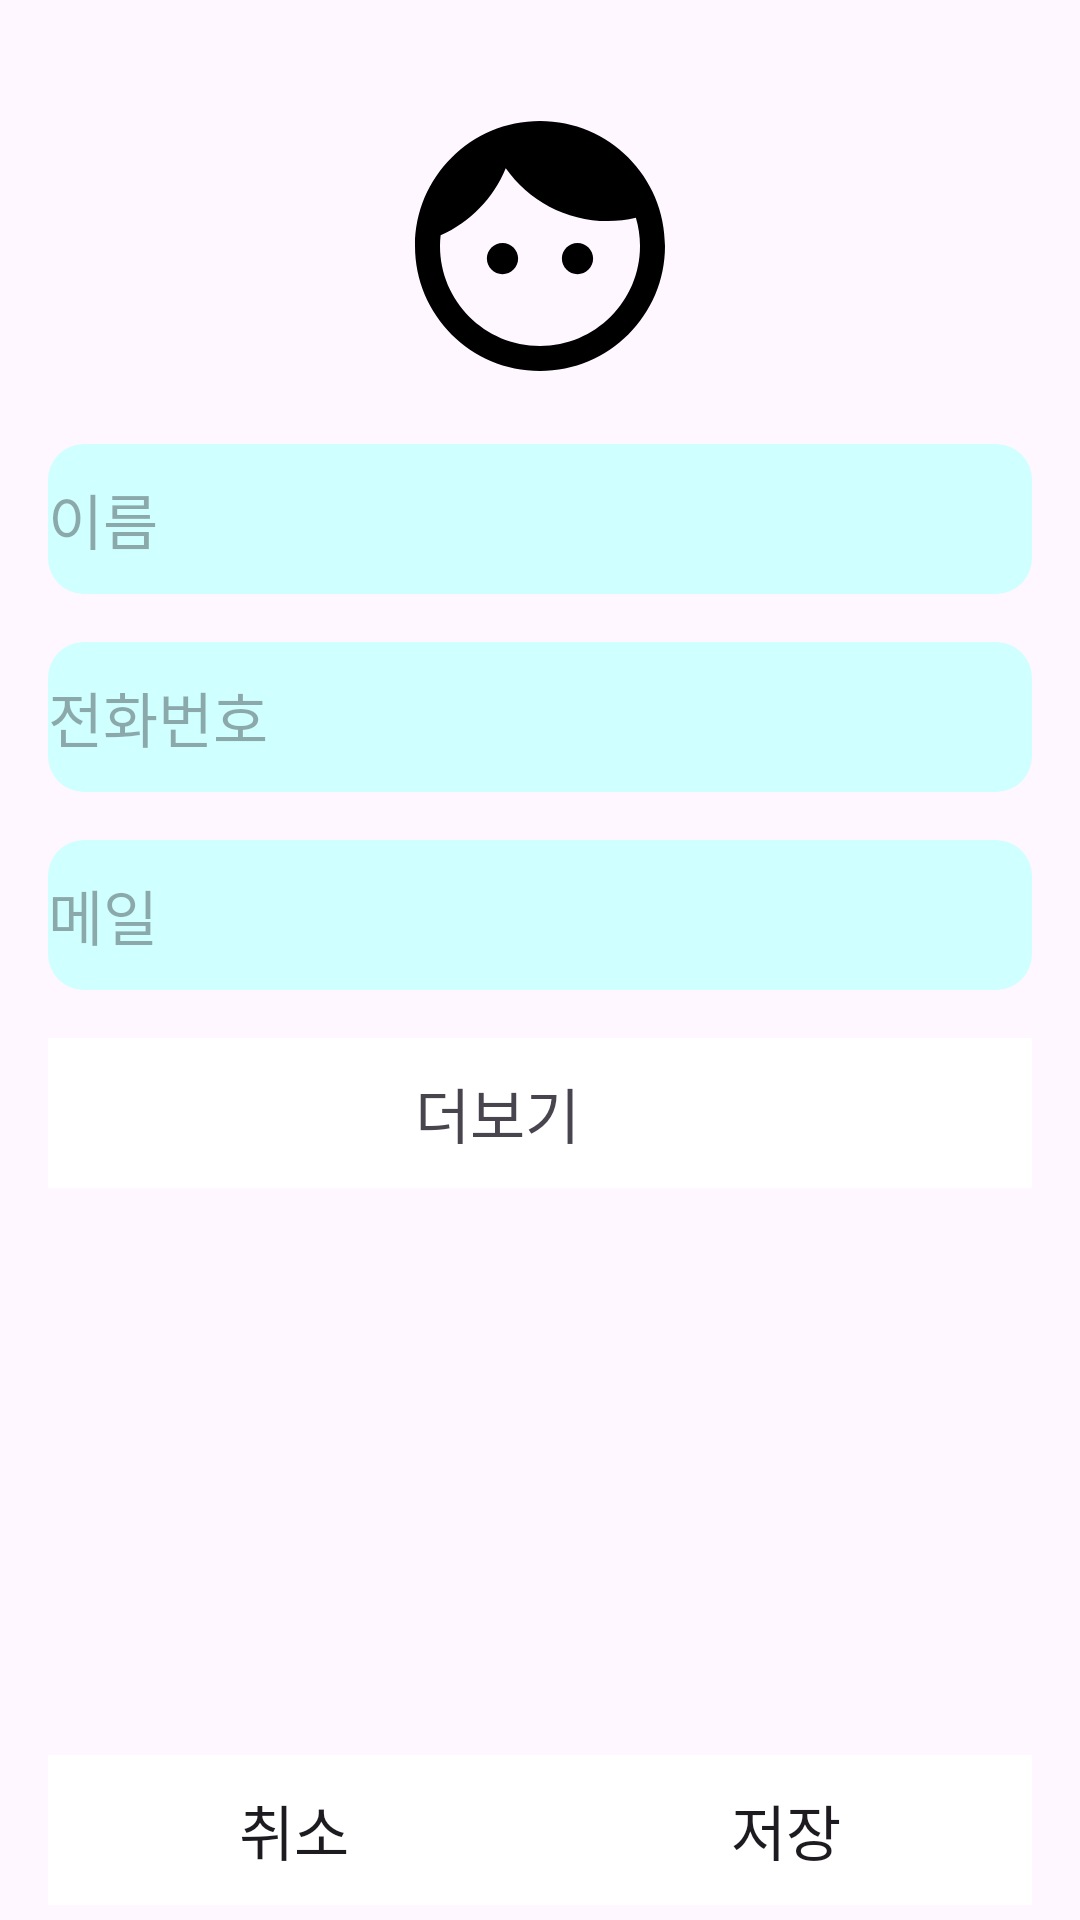

Point at icon controls on the screen. Image size 1080 x 1920, points as point (x, y).
face: point (540, 246)
